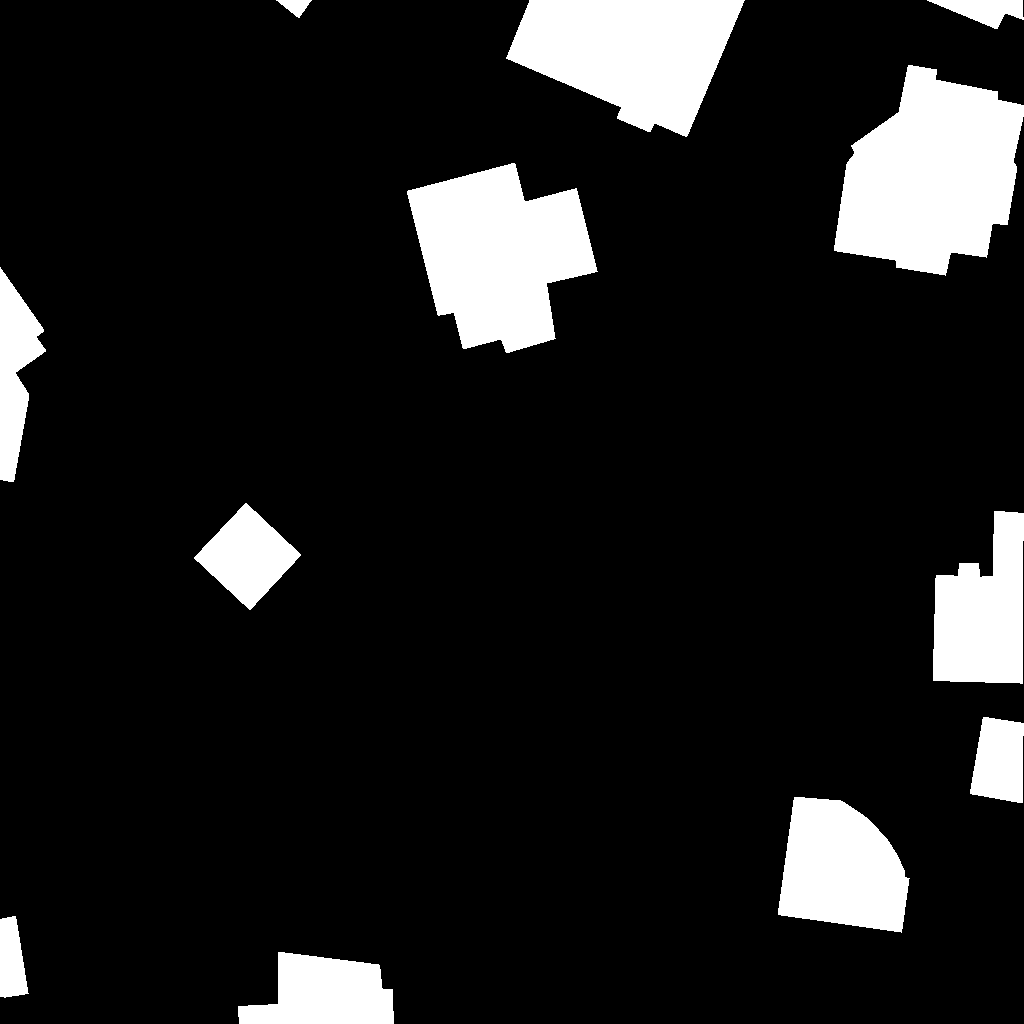building: (834, 65, 1024, 276), (407, 163, 598, 354), (506, 0, 746, 138), (778, 797, 910, 933), (933, 511, 1024, 684), (194, 503, 302, 611), (238, 952, 395, 1024), (0, 267, 47, 483), (970, 717, 1024, 804), (0, 916, 29, 1024), (926, 0, 1024, 30), (276, 0, 313, 19)
